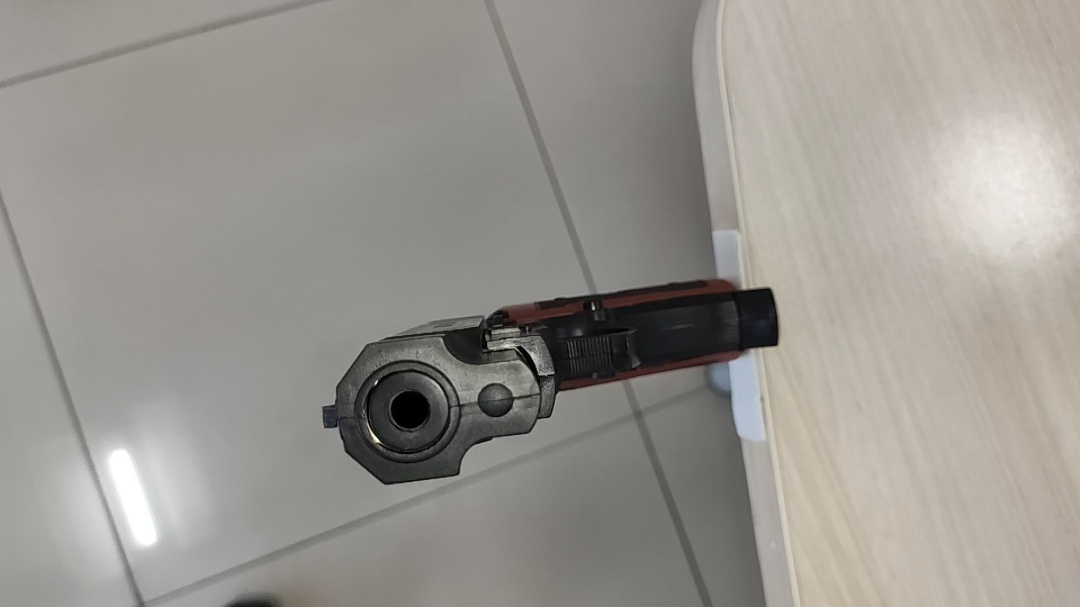gun: (323, 279, 783, 482)
